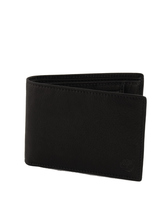other: (14, 69, 150, 183)
